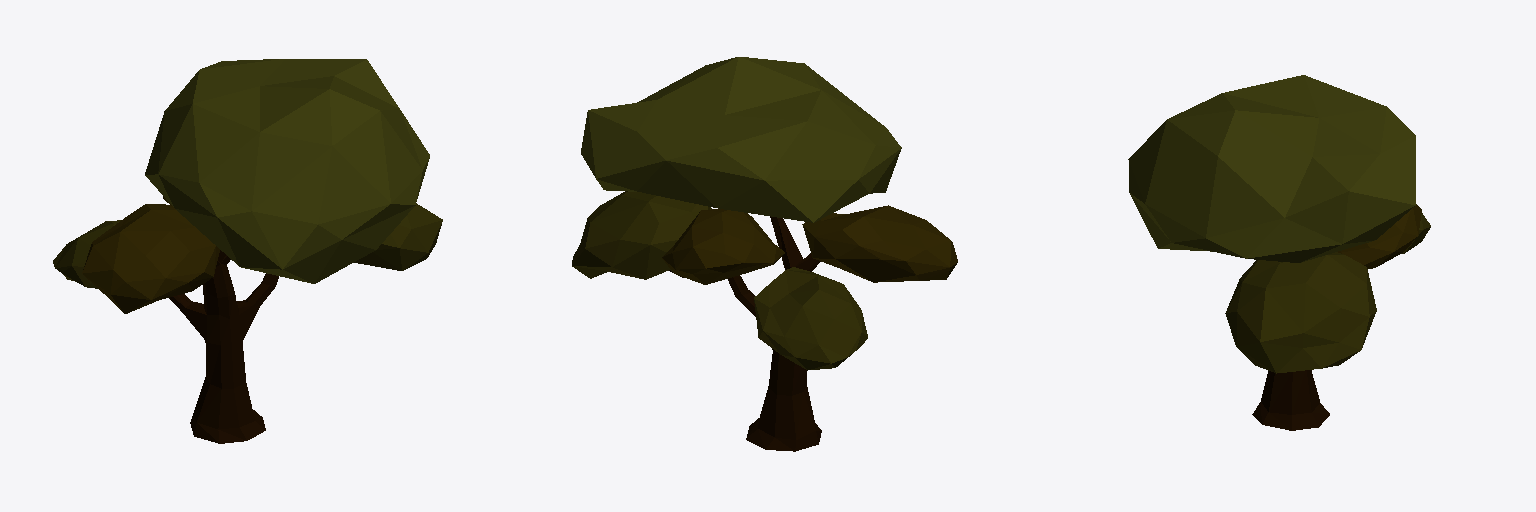
Rendered from tree1.obj.
3 renders of one model, left to right at view 1: azimuth 30°, elevation 25°; view 2: azimuth 150°, elevation 25°; view 3: azimuth 270°, elevation 25°, orthographic.
Visible parts, largest first — view 1: Icosphere.002_Icosphere.003; view 2: Icosphere.002_Icosphere.003; view 3: Icosphere.002_Icosphere.003.
Part boxes in pixels (x1,y1,x2,y2): Icosphere.002_Icosphere.003: (53, 59, 442, 443); Icosphere.002_Icosphere.003: (572, 57, 957, 451); Icosphere.002_Icosphere.003: (1128, 75, 1430, 430).
Bounding box in the file's own units: 12 × 10.99 × 8.84.